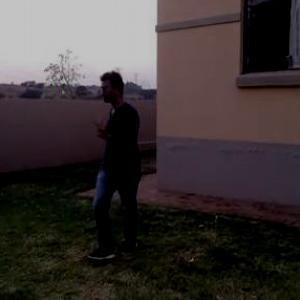takeoff-hand: (92, 111, 114, 142)
